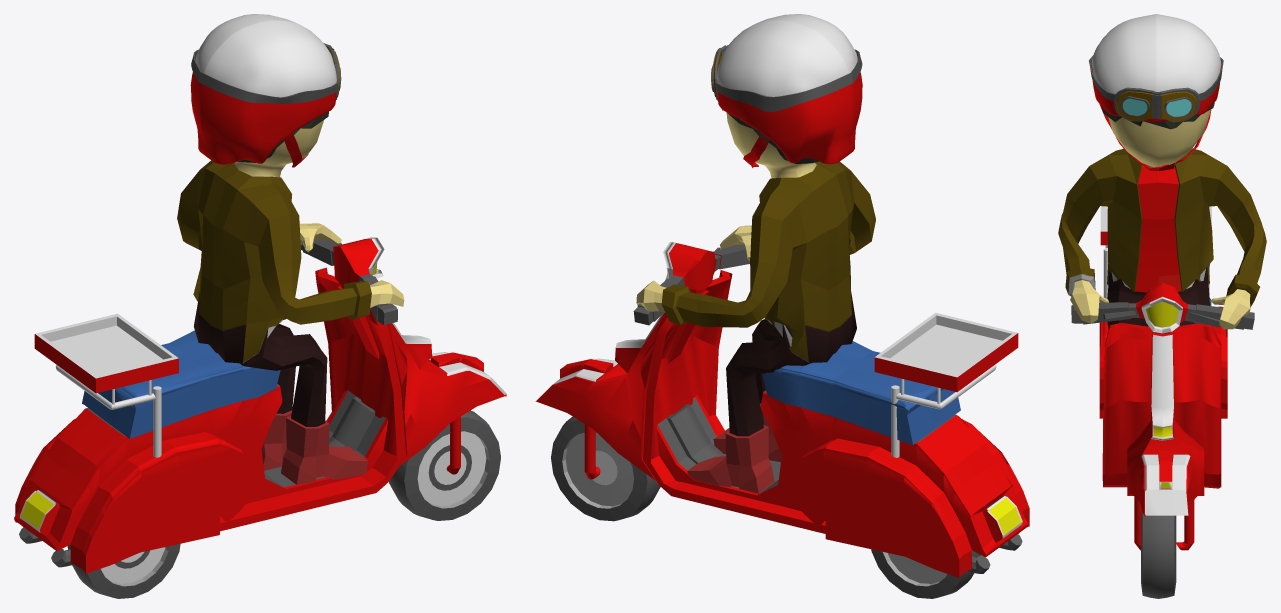
The model's file is Vespa Driver.fbx.
3 renders of one model, left to right at view 1: azimuth 30°, elevation 25°; view 2: azimuth 150°, elevation 25°; view 3: azimuth 270°, elevation 25°, orthographic. The views are drawn at different scales.
Parts seen in each view (by area): view 1: vespa, karakter, karakter1, teker, kasa, teker2, alt_demir; view 2: vespa, karakter, karakter1, kasa, teker, teker2, alt_demir; view 3: karakter, vespa, karakter1, teker, kasa.
Part boxes in pixels (x1=…): vespa: x1=14, y1=237, x2=506, y2=573; karakter: x1=177, y1=112, x2=404, y2=484; karakter1: x1=190, y1=14, x2=341, y2=167; teker: x1=389, y1=410, x2=500, y2=520; kasa: x1=34, y1=313, x2=178, y2=393; teker2: x1=67, y1=543, x2=180, y2=598; alt_demir: x1=56, y1=365, x2=155, y2=409; vespa: x1=535, y1=241, x2=1029, y2=577; karakter: x1=636, y1=110, x2=875, y2=493; karakter1: x1=711, y1=14, x2=862, y2=167; kasa: x1=874, y1=312, x2=1018, y2=392; teker: x1=551, y1=416, x2=660, y2=521; teker2: x1=871, y1=549, x2=981, y2=598; alt_demir: x1=896, y1=364, x2=996, y2=409; karakter: x1=1058, y1=102, x2=1266, y2=329; vespa: x1=1071, y1=264, x2=1254, y2=550; karakter1: x1=1089, y1=14, x2=1223, y2=171; teker: x1=1141, y1=509, x2=1176, y2=598; kasa: x1=1100, y1=206, x2=1211, y2=245.
Bounding box in the file's own units: 5.62 × 6.22 × 2.39.
13 materials, 1 textured.
